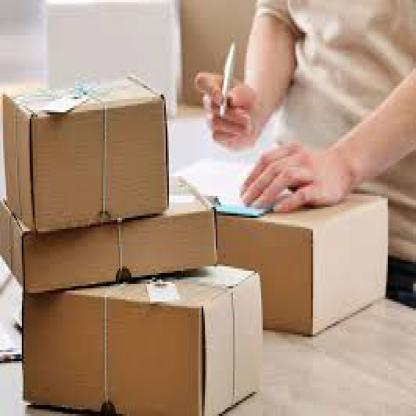paquete: (19, 284, 267, 414), (1, 84, 168, 216), (2, 191, 225, 284)
